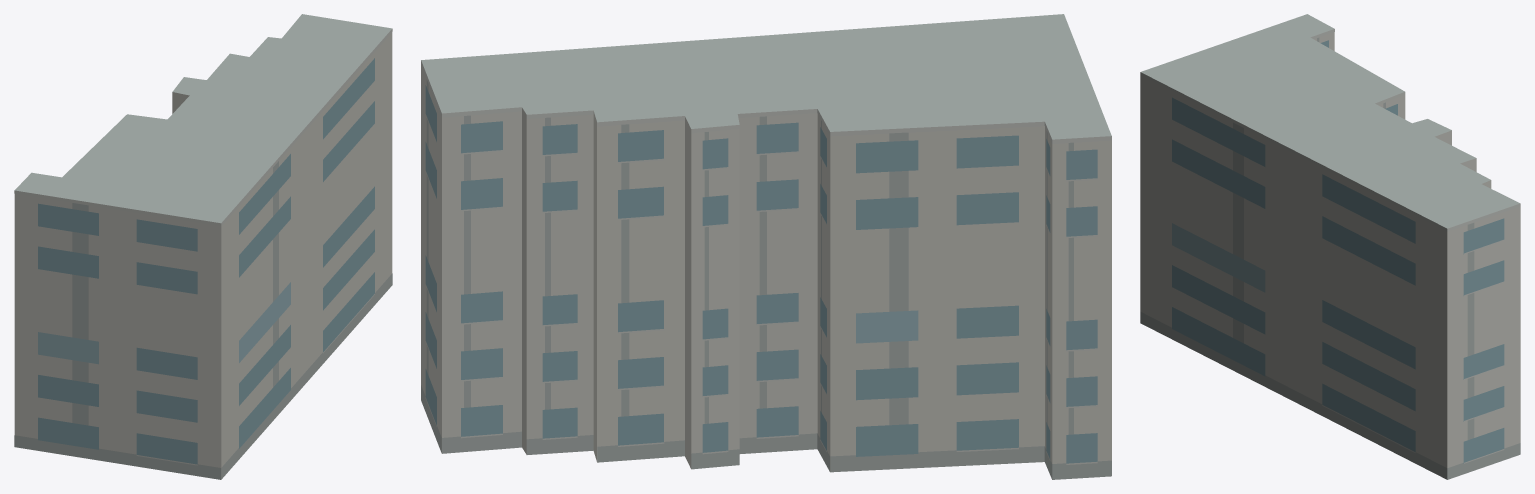
Rendered from survey-upis-32694342.glb.
3 views of the same model, side by side, from view 1: azimuth 30°, elevation 25°; view 2: azimuth 150°, elevation 25°; view 3: azimuth 270°, elevation 25° (orthographic). The views are drawn at different scales.
Parts seen in each view (by area): view 1: survey-upis-32694342.tmp; view 2: survey-upis-32694342.tmp; view 3: survey-upis-32694342.tmp.
Part boxes in pixels (x1,y1,x2,y2): survey-upis-32694342.tmp: (14, 14, 392, 479); survey-upis-32694342.tmp: (421, 14, 1111, 479); survey-upis-32694342.tmp: (1140, 14, 1520, 479).
Size of the model in its own units: 35.56 by 19.4 by 26.62.
